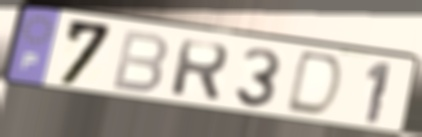1: (362, 60, 395, 127)
3: (232, 47, 284, 109)
7: (58, 17, 115, 88)
B: (108, 28, 171, 96)
D: (281, 49, 347, 121)
R: (167, 37, 232, 104)
